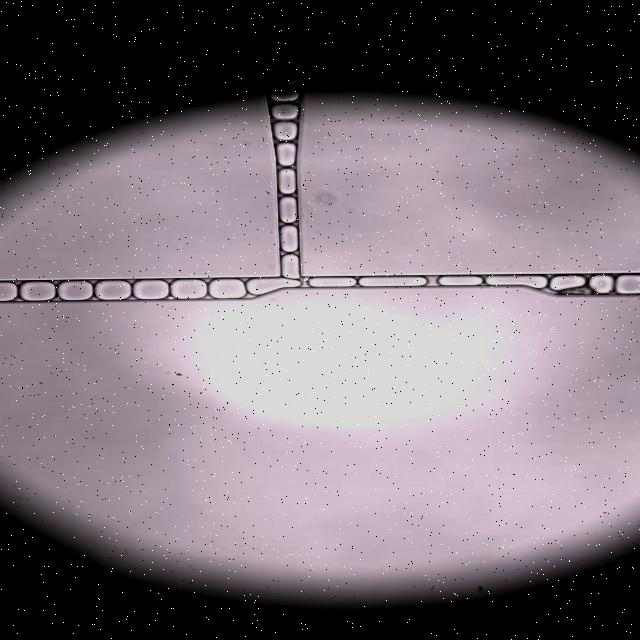L: (549, 275, 584, 291), (270, 103, 297, 121), (280, 226, 298, 252), (276, 143, 296, 166), (273, 122, 297, 141), (280, 197, 297, 223), (438, 276, 482, 286), (616, 275, 639, 294), (270, 87, 299, 102), (279, 169, 296, 194), (309, 278, 356, 287), (281, 255, 299, 278), (270, 77, 299, 85)
S: (486, 275, 547, 289), (247, 279, 300, 295), (95, 280, 131, 300), (20, 281, 56, 301), (171, 280, 207, 299), (133, 280, 169, 299), (359, 277, 427, 287), (210, 279, 245, 298), (57, 281, 92, 300), (593, 276, 612, 294), (0, 282, 17, 301)
